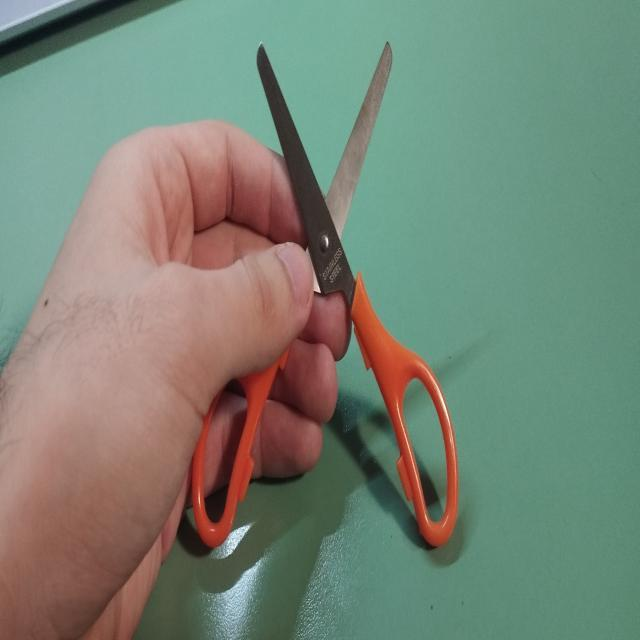tesoura: (186, 35, 460, 558)
